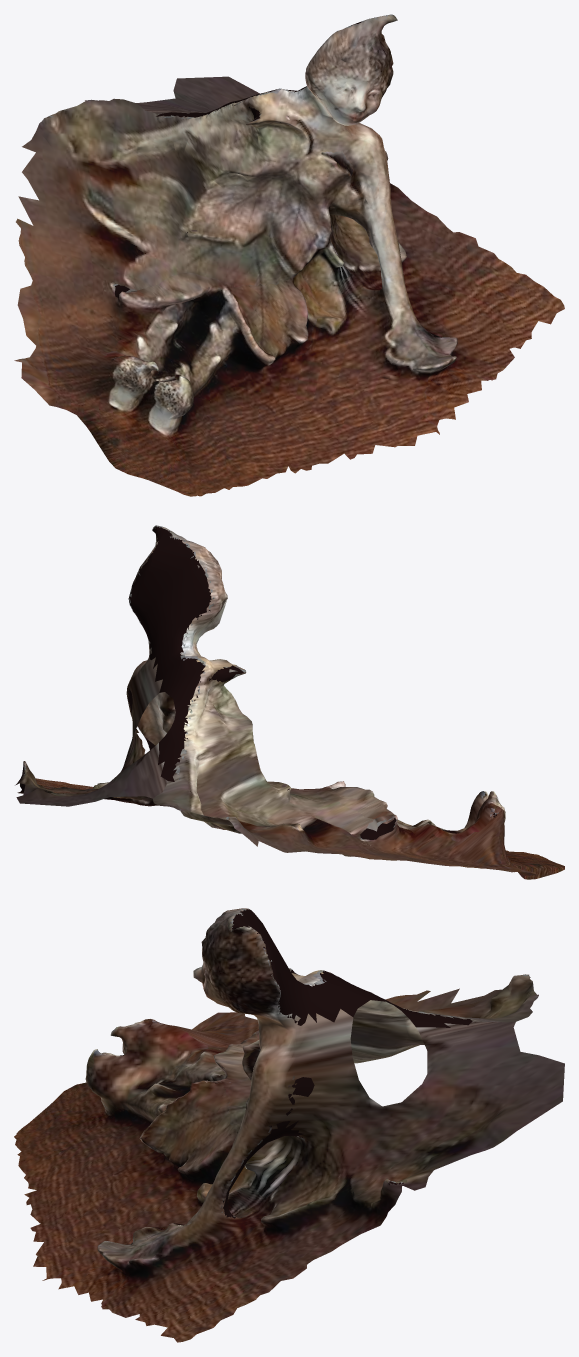
The model's file is takkeWijfie.glb.
3 views of the same model, one above another, from view 1: azimuth 30°, elevation 25°; view 2: azimuth 150°, elevation 25°; view 3: azimuth 270°, elevation 25° (orthographic). The views are drawn at different scales.
Visible parts, largest first — view 1: takkeWijfie; view 2: takkeWijfie; view 3: takkeWijfie.
Boxes of the visible parts, x1,y1,x2,y2 form: takkeWijfie: (14, 14, 564, 496); takkeWijfie: (15, 525, 564, 879); takkeWijfie: (14, 908, 564, 1342).
Bounding box in the file's own units: 17.75 × 11.21 × 14.69.
2 materials, 2 textured.
